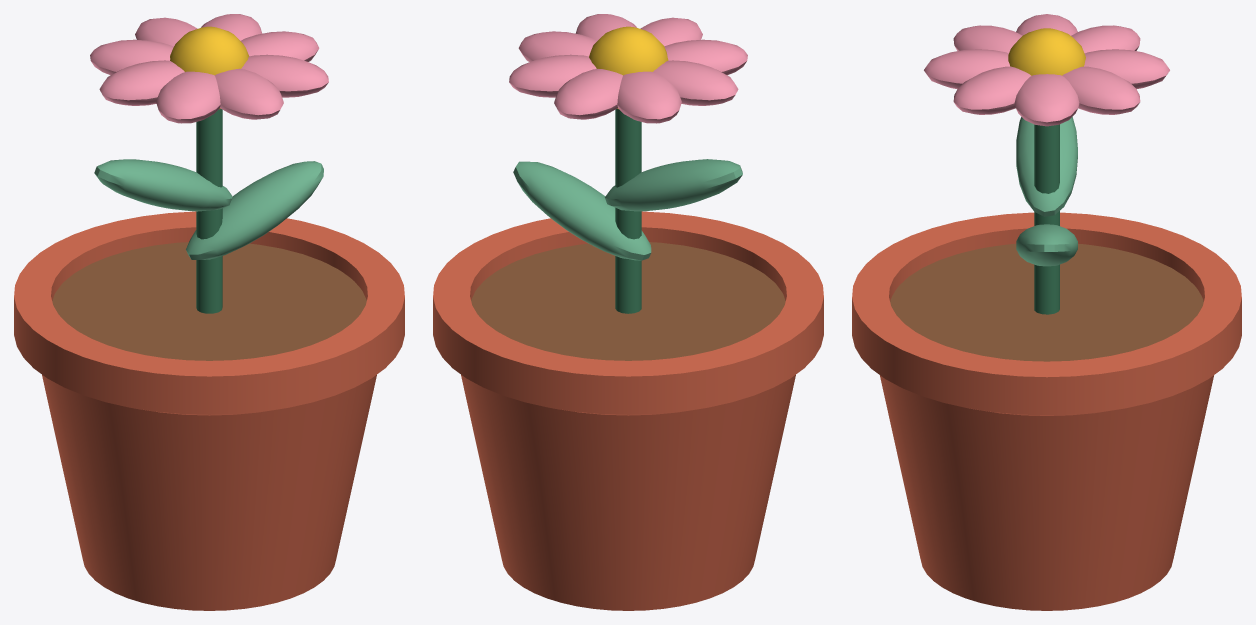
The model's file is flower_pot.glb.
3 views of the same model, side by side, from view 1: azimuth 30°, elevation 25°; view 2: azimuth 150°, elevation 25°; view 3: azimuth 270°, elevation 25° (orthographic).
Parts seen in each view (by area): view 1: flower_pot; view 2: flower_pot; view 3: flower_pot.
Part boxes in pixels (left/top/right/bottom): flower_pot: left=14, top=14, right=404, bottom=610; flower_pot: left=433, top=14, right=823, bottom=610; flower_pot: left=852, top=14, right=1241, bottom=610.
Size of the model in its own units: 0.7392 by 1.1 by 0.7396.
1 material, 1 textured.
